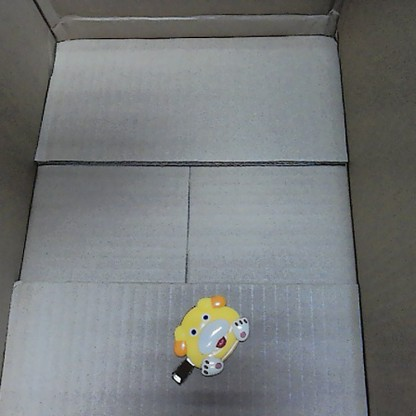dogclip: (165, 292, 249, 386)
